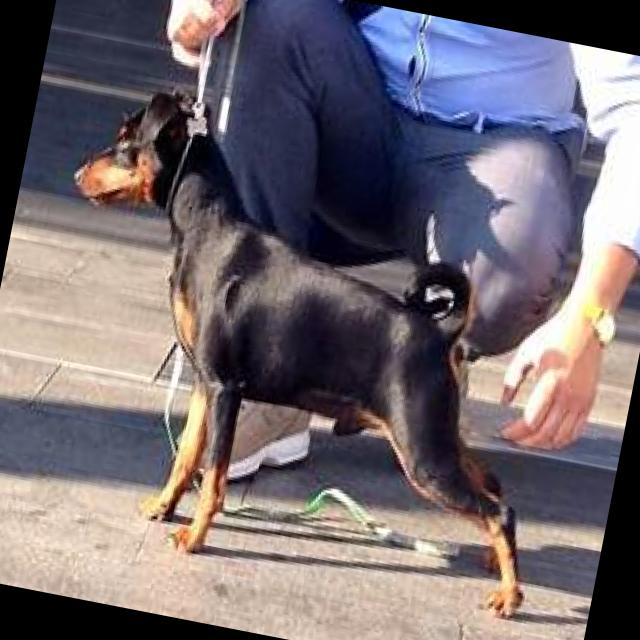animal: (5, 72, 608, 622)
